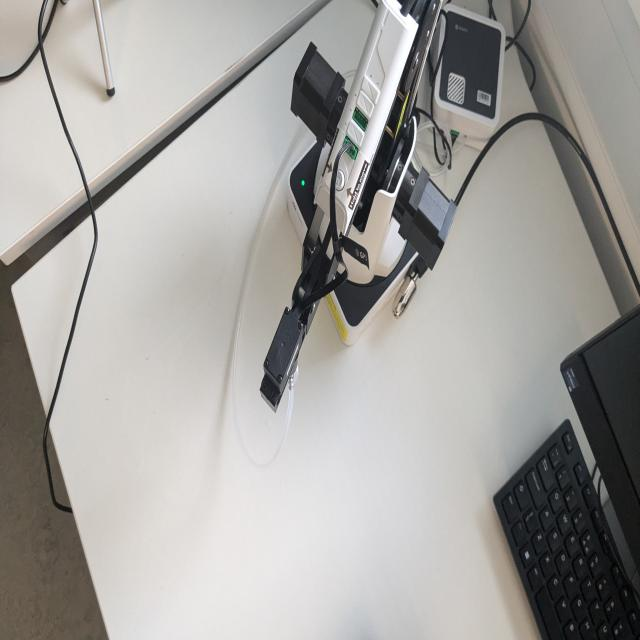Robot-end-effector-HF8z: (259, 306, 308, 418)
